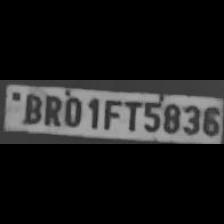0: (61, 93, 83, 126)
1: (82, 95, 102, 129)
3: (180, 101, 200, 135)
5: (139, 97, 161, 132)
6: (200, 102, 220, 136)
8: (160, 100, 180, 134)
B: (20, 92, 42, 124)
F: (101, 97, 121, 130)
R: (40, 92, 60, 126)
T: (121, 97, 139, 131)
